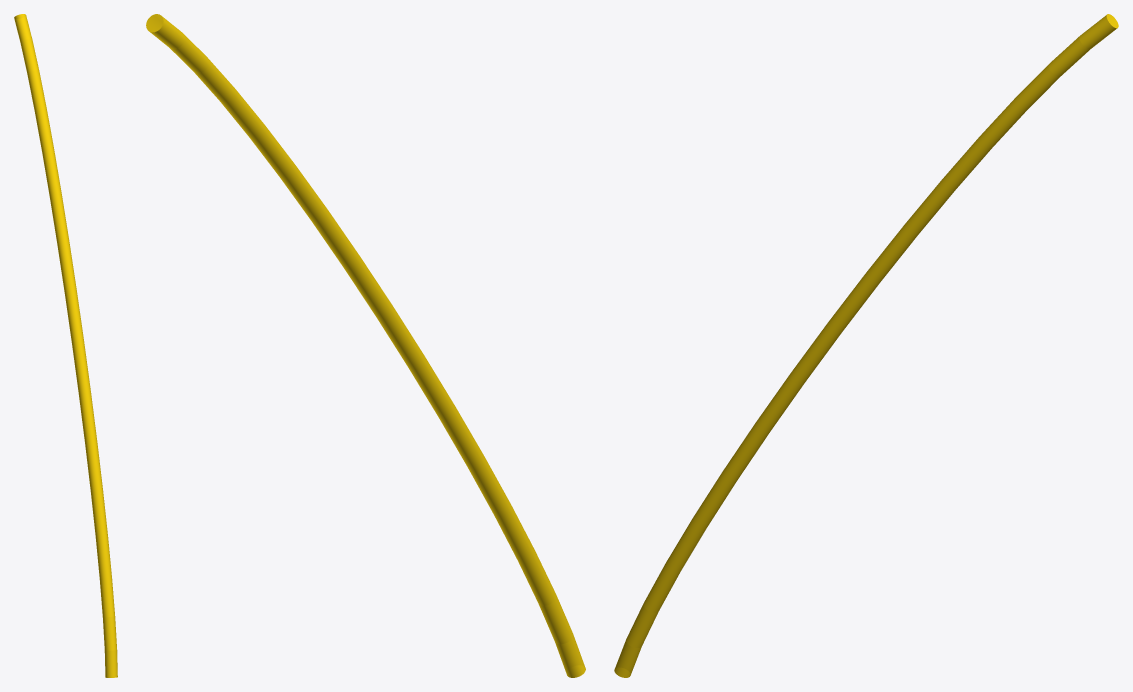
The model's file is Event_421127236_track_58.fbx.
The picture shows the model from 3 angles, left to right: view 1: azimuth 30°, elevation 25°; view 2: azimuth 150°, elevation 25°; view 3: azimuth 270°, elevation 25°; orthographic projection. The views are drawn at different scales.
Visible parts, largest first — view 1: Model; view 2: Model; view 3: Model.
Part boxes in pixels (box(x1,y1,x2,y2)): Model: box(14, 14, 117, 677); Model: box(146, 14, 585, 677); Model: box(614, 14, 1118, 677).
Bounding box in the file's own units: 0.3553 × 1.84 × 1.17.
